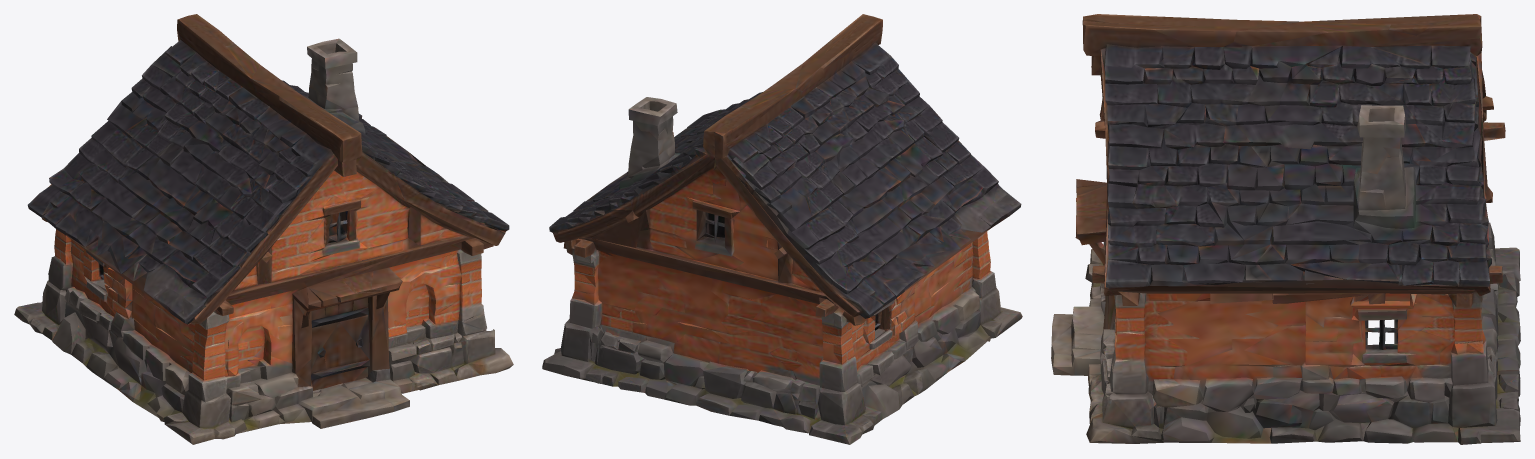
File: house.glb
3 renders of one model, left to right at view 1: azimuth 30°, elevation 25°; view 2: azimuth 150°, elevation 25°; view 3: azimuth 270°, elevation 25°, orthographic. The views are drawn at different scales.
Bounding box in the file's own units: 1.84 × 1.47 × 1.89.
Materials: 1 (1 with a texture image).
